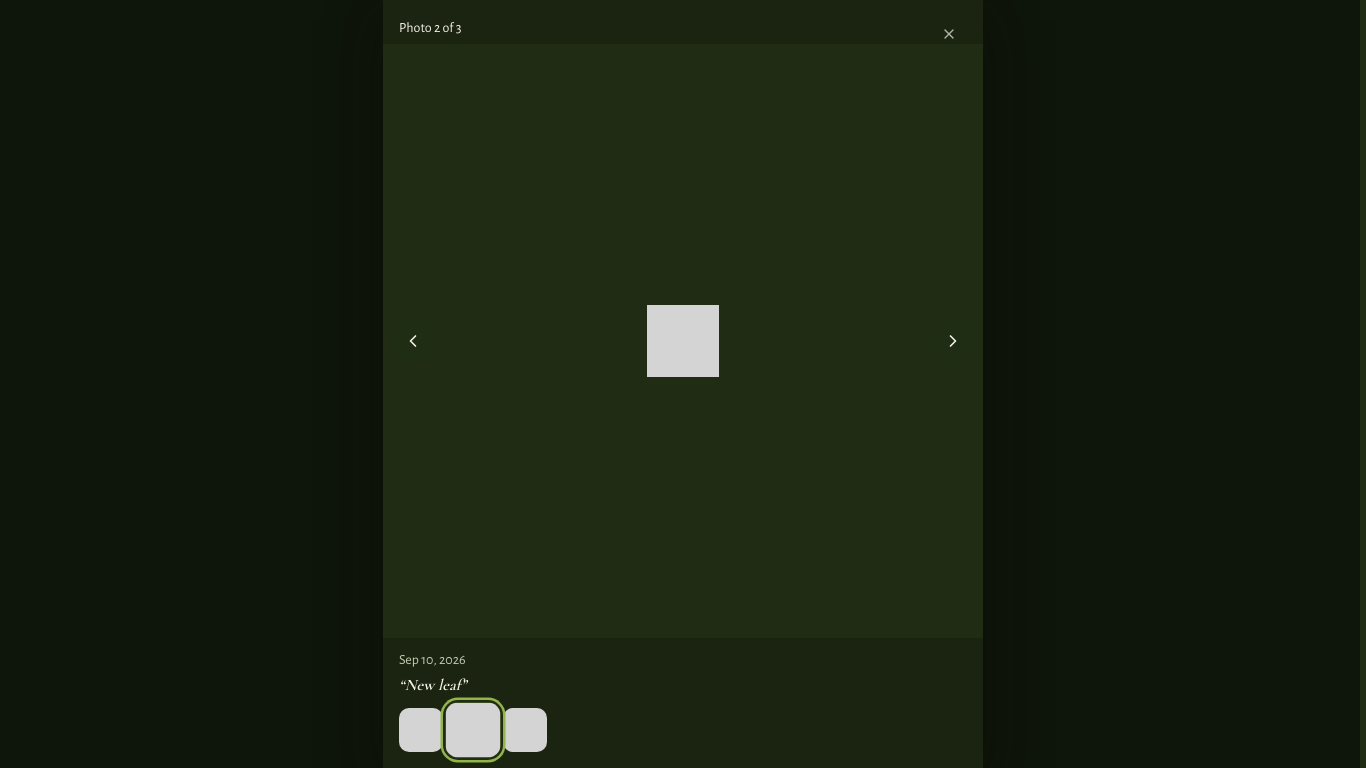
Scenario: Close is first in the DOM, and Next and Previous page
Click the button with test id "photo-viewer-next" at (953, 341), box [931,319,975,363]
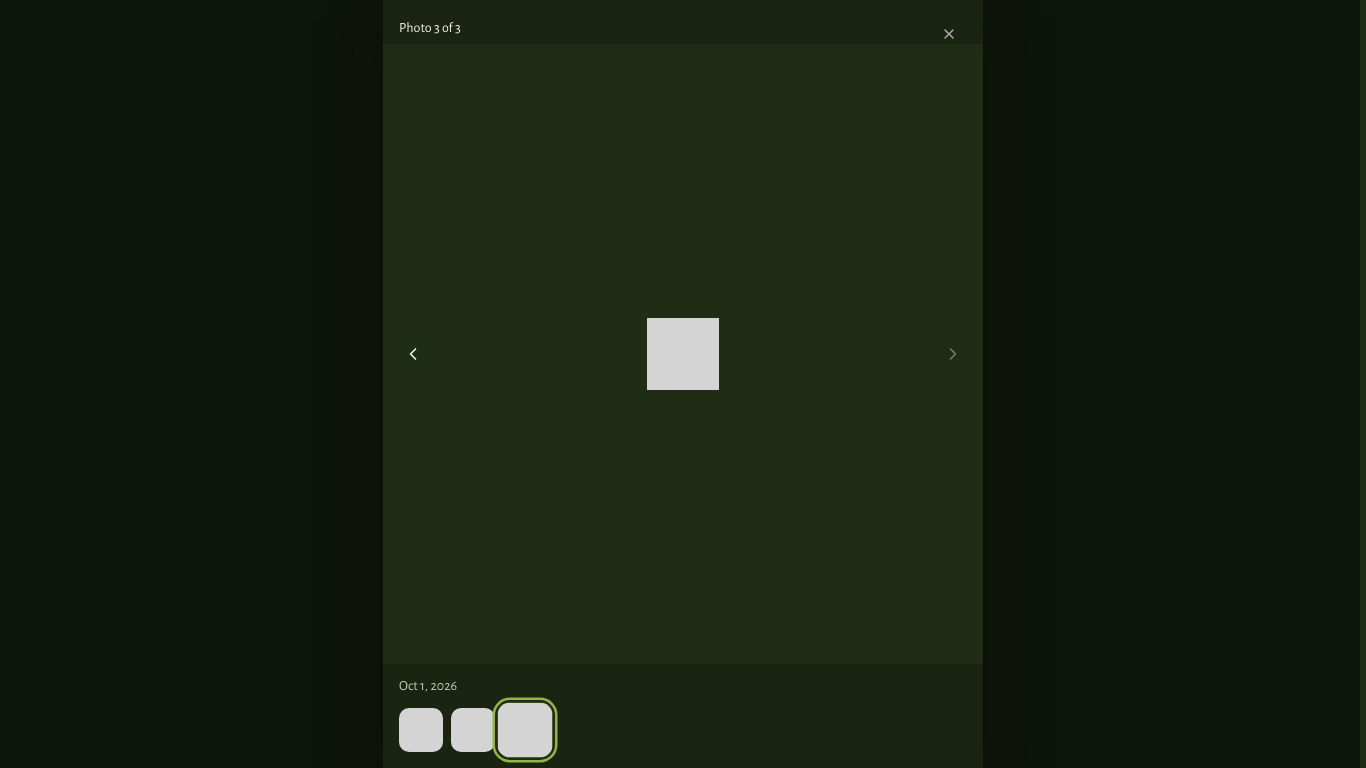
Result: the text with test id "photo-viewer-status" reads "Photo 3 of 3" at [399,21,461,35]
Click the button with test id "photo-viewer-prev" at (413, 354), box [391,332,435,376]
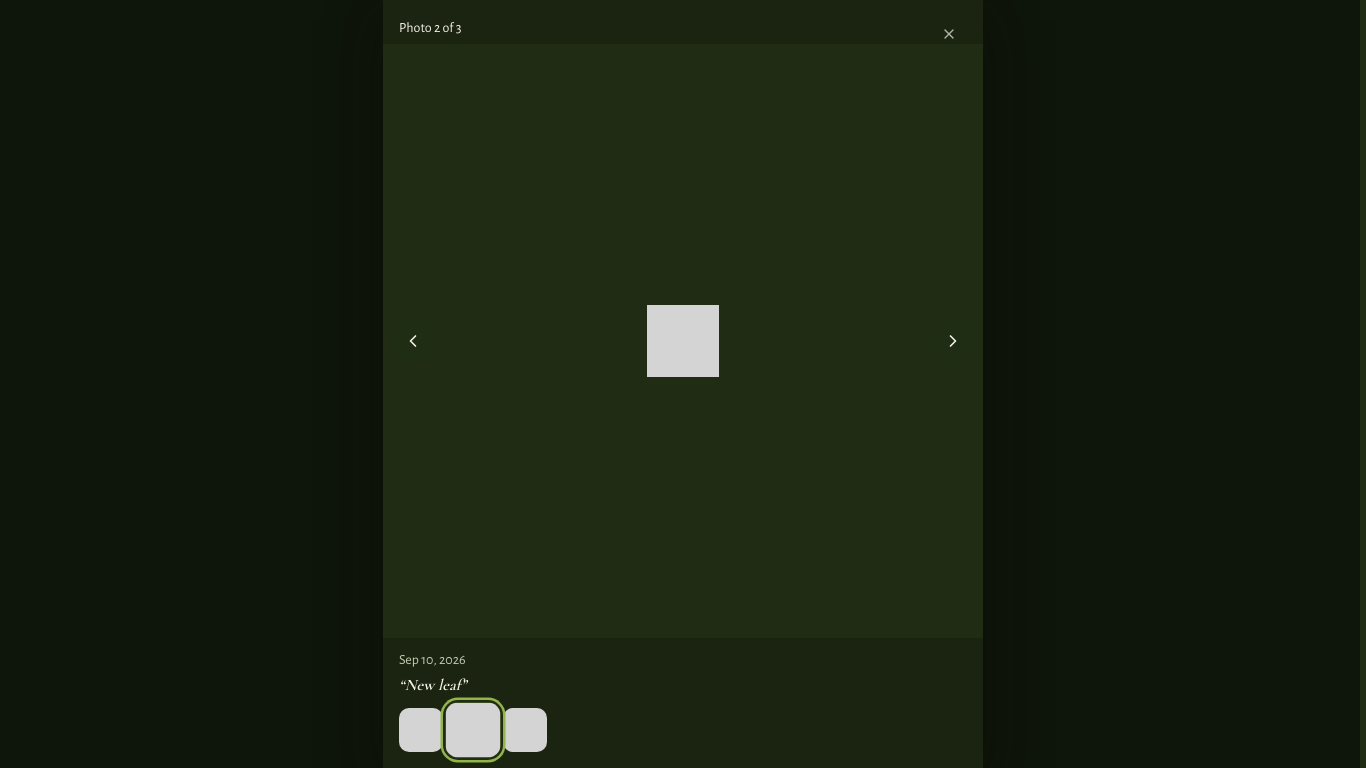
Click the button with test id "photo-viewer-prev" at (413, 341), box [391,319,435,363]
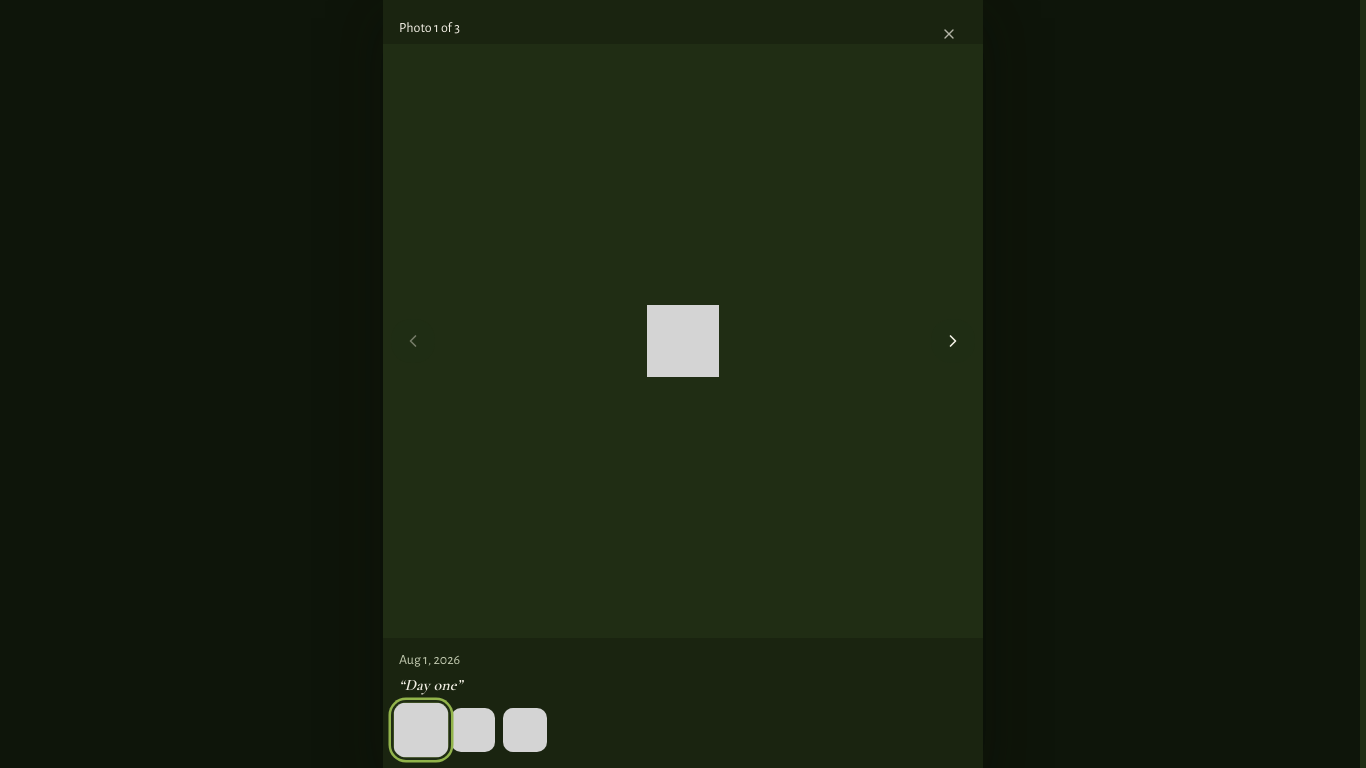
Result: the text with test id "photo-viewer-status" reads "Photo 1 of 3" at [399,21,460,35]
